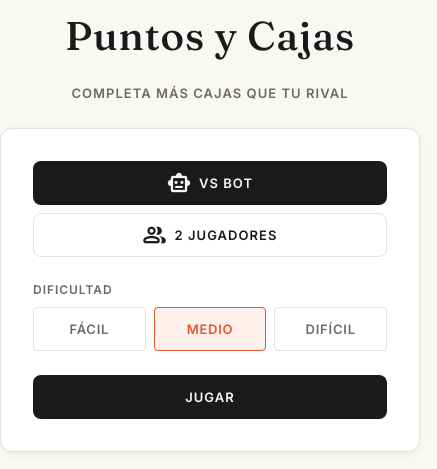
Test: HomeScreen › hides the difficulty selector in two player mode
Click the button "2 Jugadores": (210,234) 33,212 -> 387,256
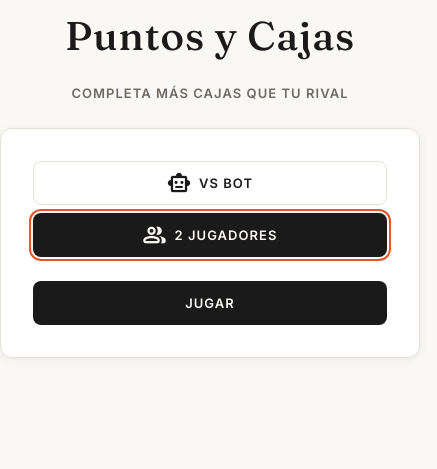
Result: the text "Dificultad" is gone
